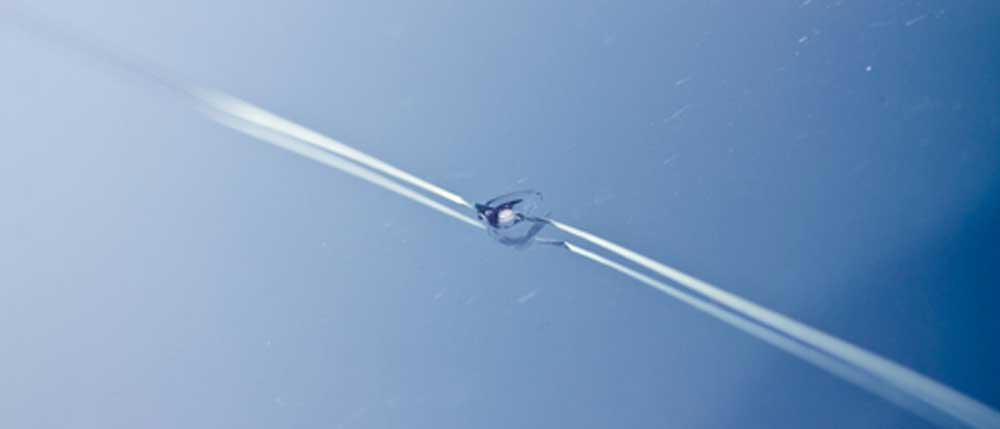bullseye: (463, 174, 577, 270)
